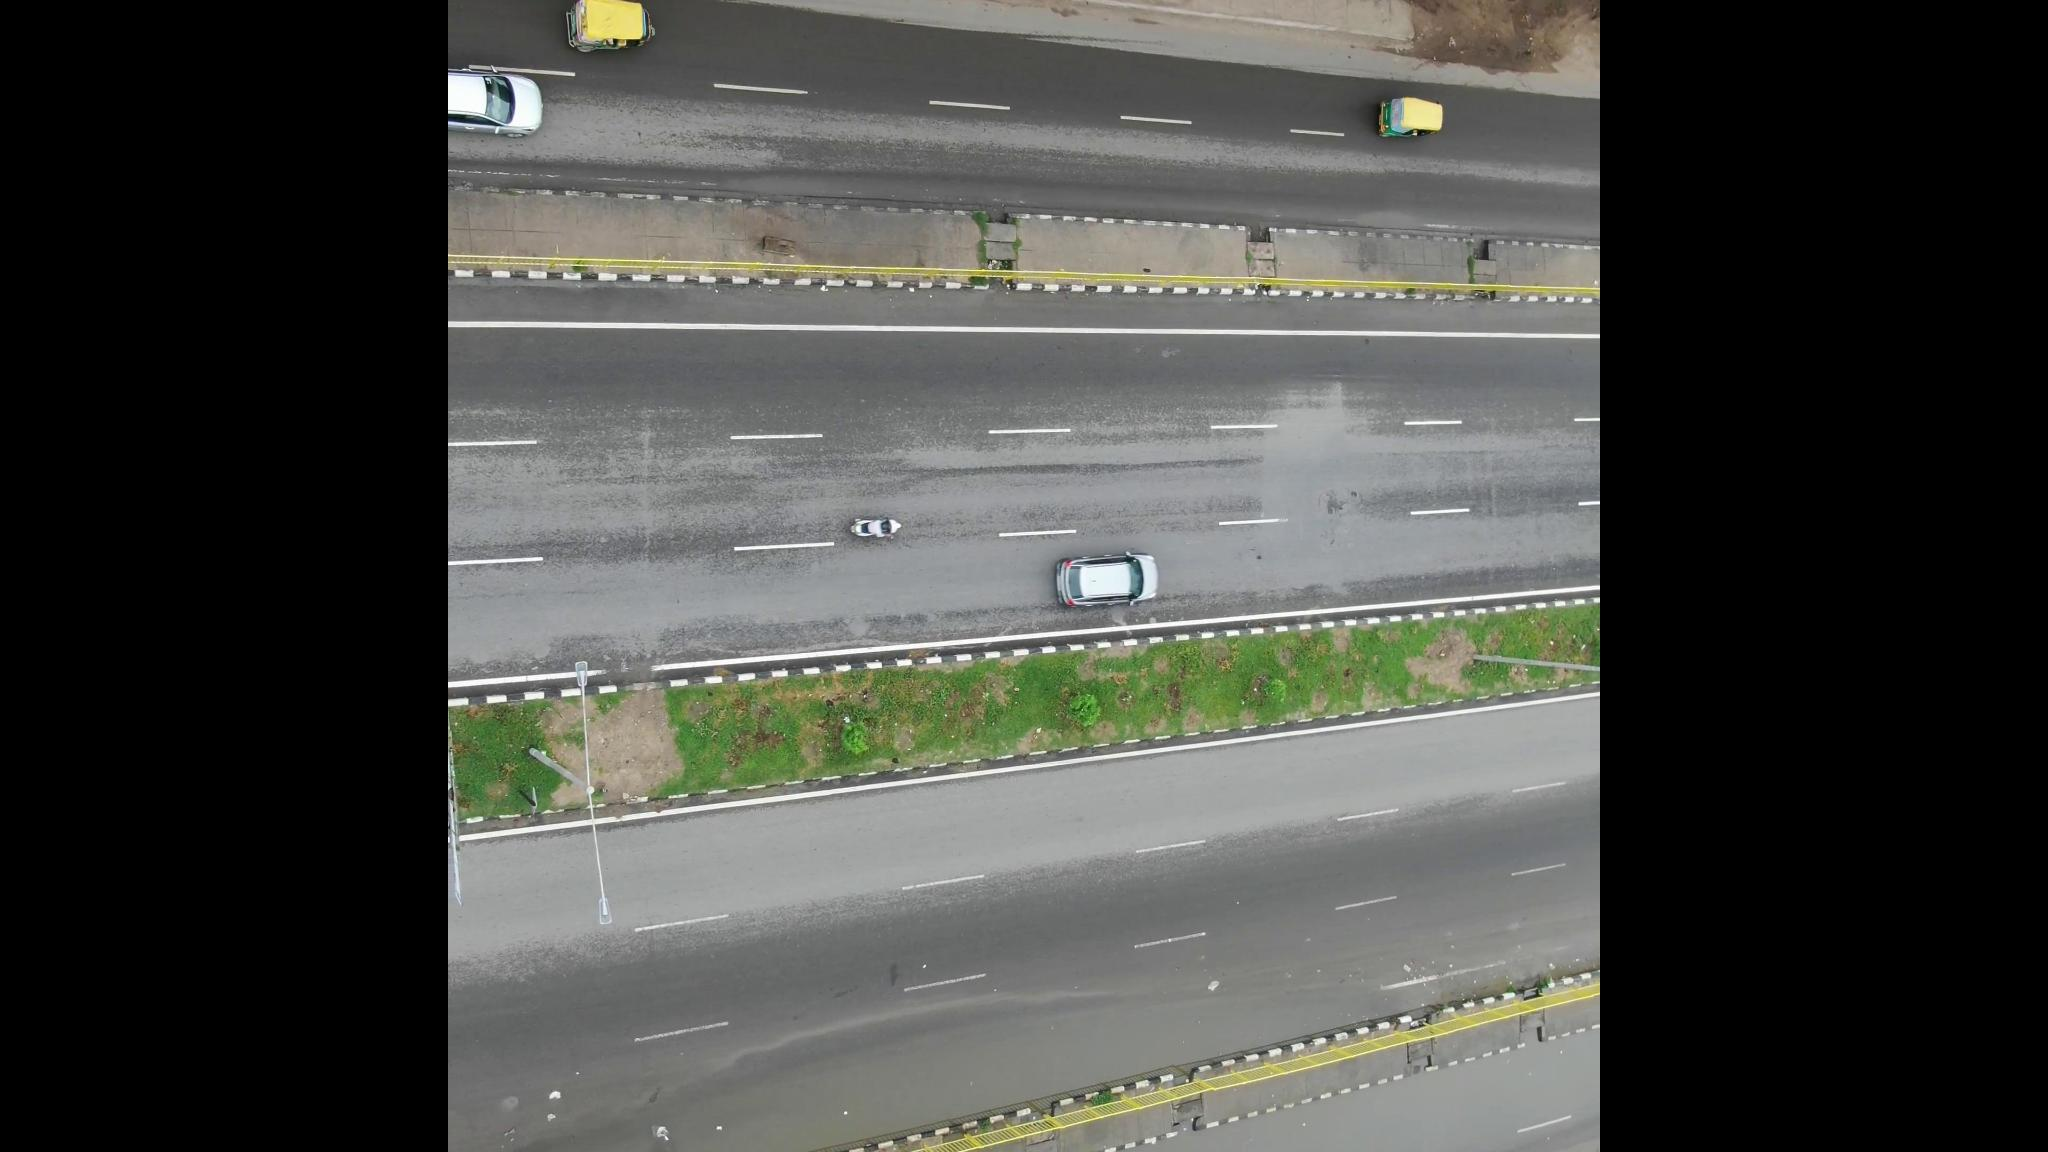Waterlogging: (999, 966, 1395, 1087), (568, 1027, 937, 1152)
